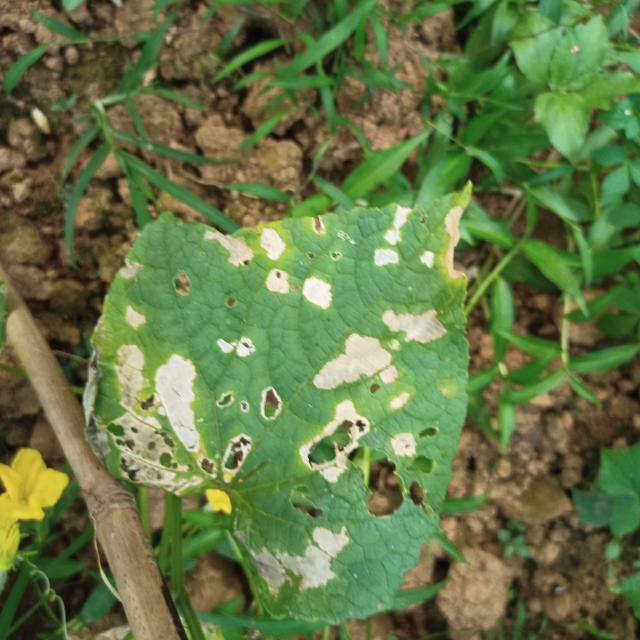disease_cucumber: (175, 220, 470, 408), (80, 299, 290, 497), (252, 383, 428, 600)
